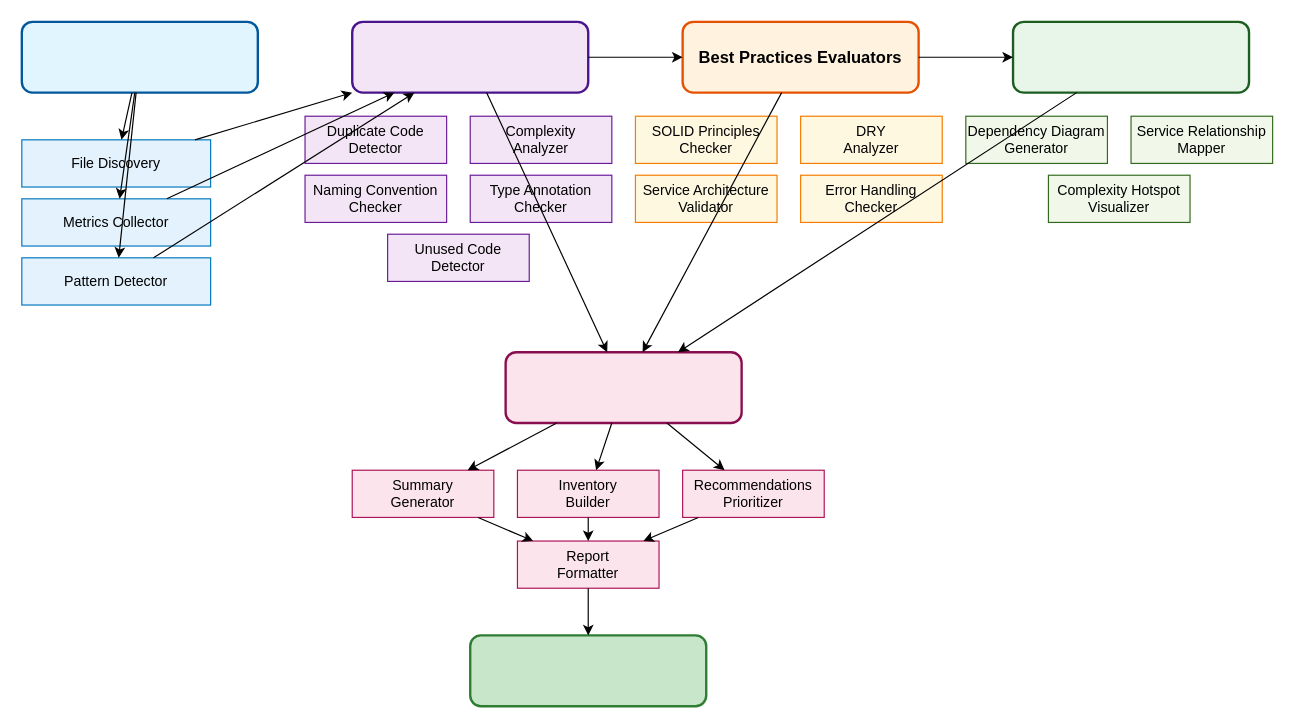
Image size: 1293x727. Some labels were removed from this diagram. Each missing label, with the box of its shape:
Analysis Modules: (350, 20, 589, 93)
F004-CodeQualityReport.md: (468, 634, 707, 707)
Report Generator: (504, 350, 742, 424)
Scanner Module: (20, 20, 258, 93)
Visualization Generators: (1011, 20, 1250, 93)
